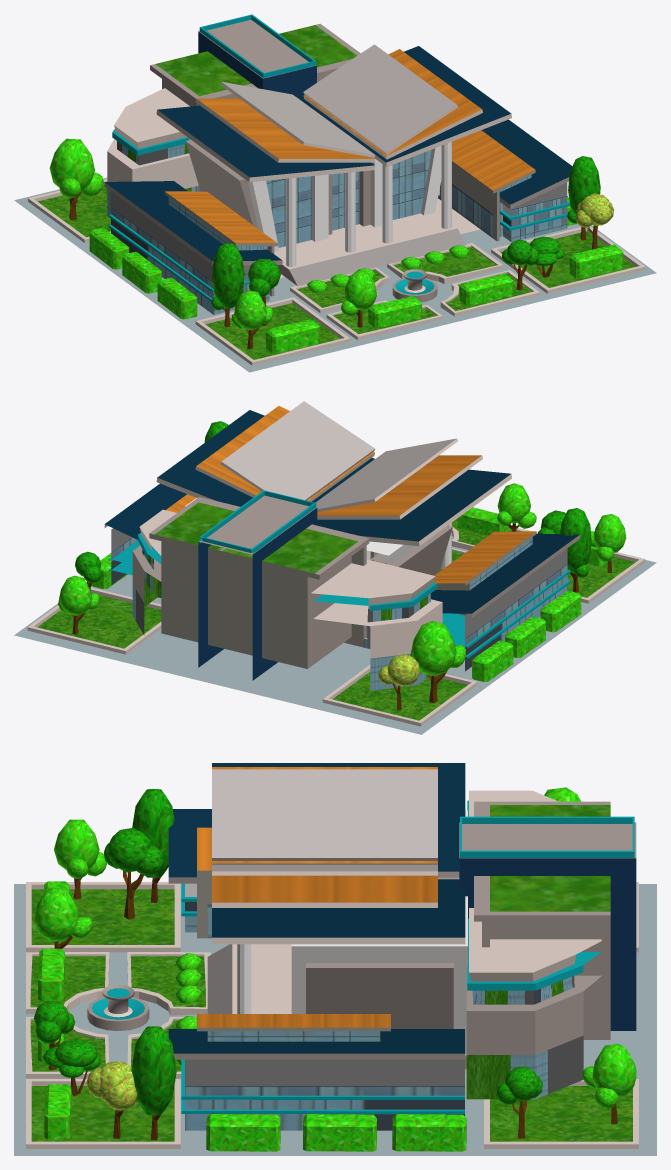
Rendered from school_LV1.fbx.
3 renders of one model, top to bottom at view 1: azimuth 30°, elevation 25°; view 2: azimuth 150°, elevation 25°; view 3: azimuth 270°, elevation 25°, orthographic. The views are drawn at different scales.
Parts seen in each view (by area): view 1: school 1; view 2: school 1; view 3: school 1.
Part boxes in pixels (x1,y1,x2,y2): school 1: (14, 14, 656, 372); school 1: (14, 401, 656, 734); school 1: (14, 763, 656, 1155).
Size of the model in its own units: 120 by 42.38 by 120.
